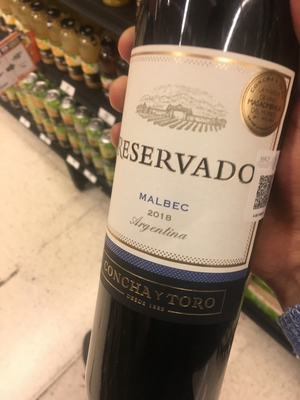reservado malbec: (100, 22, 292, 400)
